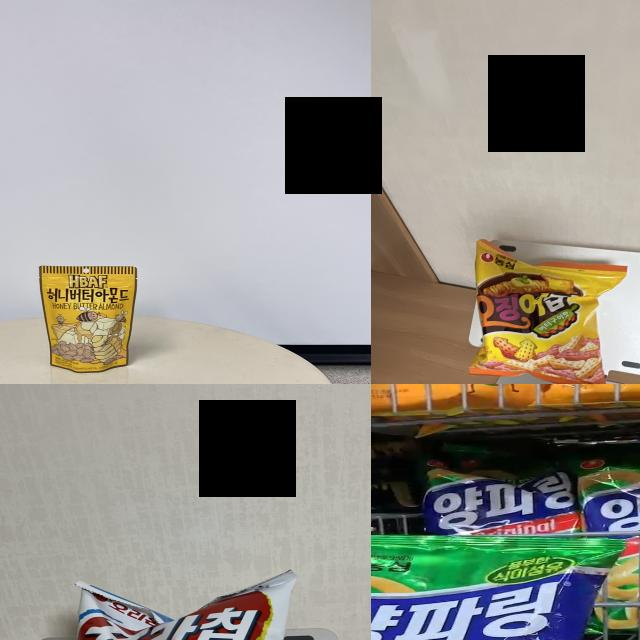honeyAmond: (41, 265, 131, 370)
onionRing: (371, 524, 626, 640), (574, 446, 640, 640)
ozingZip: (473, 242, 610, 384)
pokaChip: (70, 584, 280, 640)
